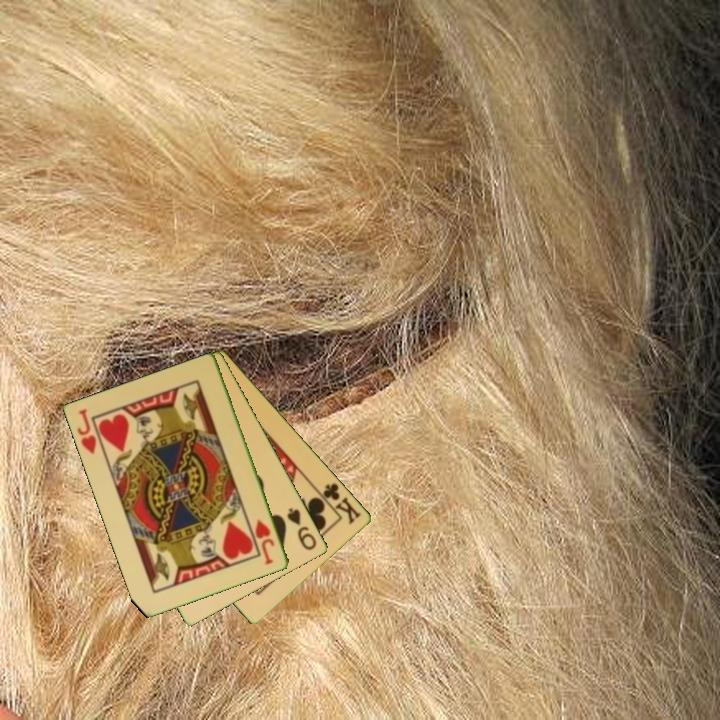9s: (284, 504, 320, 553)
Jh: (252, 516, 278, 568), (74, 405, 100, 457)
Kc: (314, 480, 364, 527)
